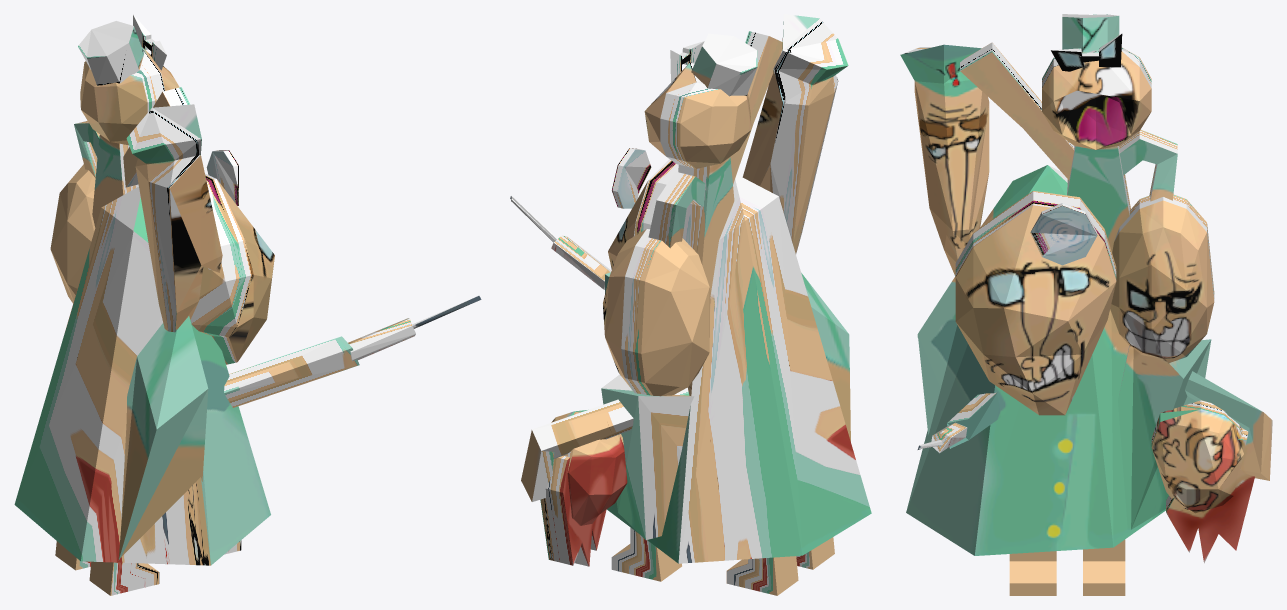
File: Doctors.glb
The picture shows the model from 3 angles, left to right: view 1: azimuth 30°, elevation 25°; view 2: azimuth 150°, elevation 25°; view 3: azimuth 270°, elevation 25°; orthographic projection. The views are drawn at different scales.
Parts seen in each view (by area): view 1: Doctors; view 2: Doctors; view 3: Doctors.
Part boxes in pixels (x1,y1,x2,y2): Doctors: [14, 14, 481, 595]; Doctors: [510, 14, 871, 595]; Doctors: [900, 14, 1272, 595].
Bounding box in the file's own units: 117 × 155 × 96.63.
1 material, 1 textured.
